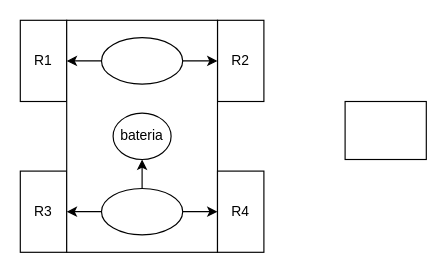
The diagram is 447 pixels wide and 273 high, and some of its shapes have lost their labels. The shapes that lost their labels are listed below. From the top down, each one's box as (x1, y1, x2, y2) in pixels, then its label:
(100, 37, 183, 84): direcciones
(344, 100, 426, 160): CPU
(100, 187, 183, 235): motor
